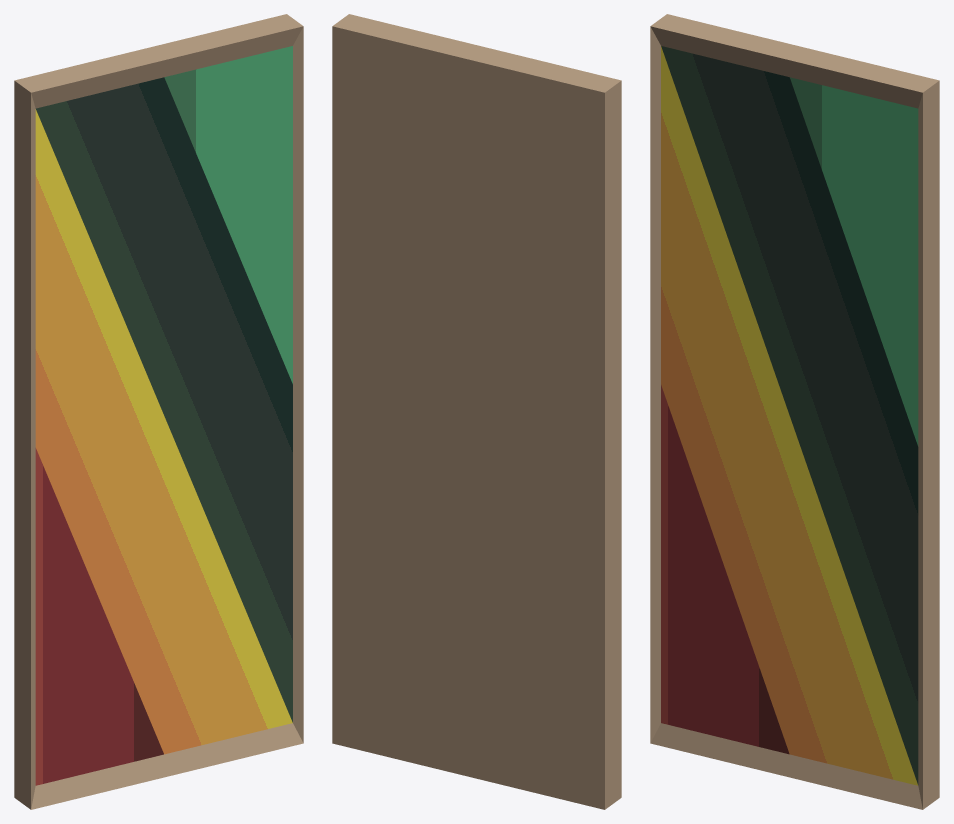
File: Accesories_Frame_C.glb
3 renders of one model, left to right at view 1: azimuth 30°, elevation 25°; view 2: azimuth 150°, elevation 25°; view 3: azimuth 330°, elevation 25°, orthographic.
Visible parts, largest first — view 1: Accesories_Frame_C; view 2: Accesories_Frame_C; view 3: Accesories_Frame_C.
Part boxes in pixels (<box>): Accesories_Frame_C: <box>14,14,303,809</box>; Accesories_Frame_C: <box>332,14,621,809</box>; Accesories_Frame_C: <box>650,14,939,809</box>.
Bounding box in the file's own units: 0.3999 × 1.01 × 0.0426.
Materials: 1 (1 with a texture image).
